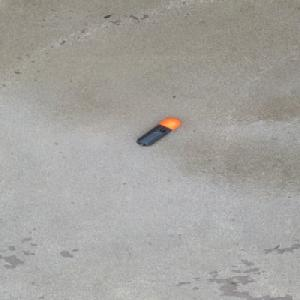PlasticPart: (135, 117, 181, 146)
